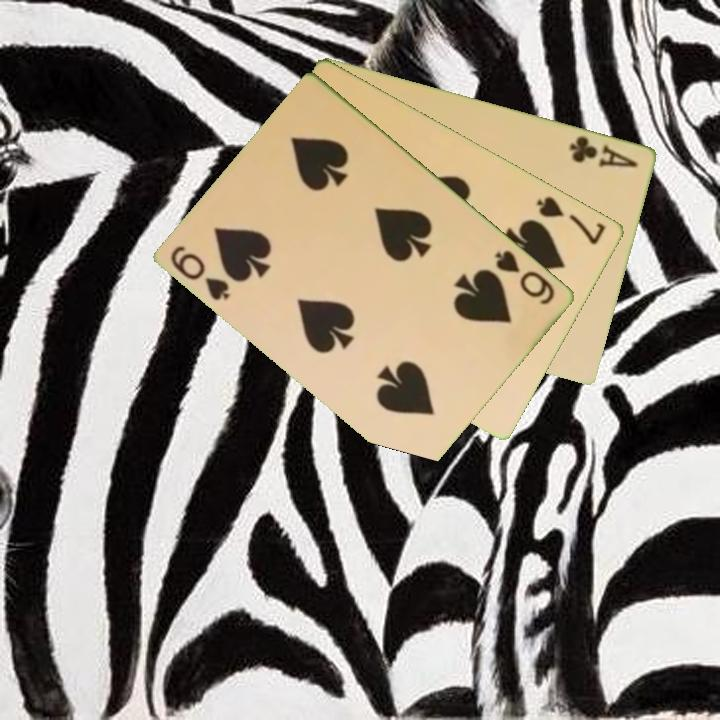6s: (167, 241, 234, 304), (492, 246, 559, 308)
7s: (533, 192, 609, 248)
Ac: (566, 132, 642, 170)
